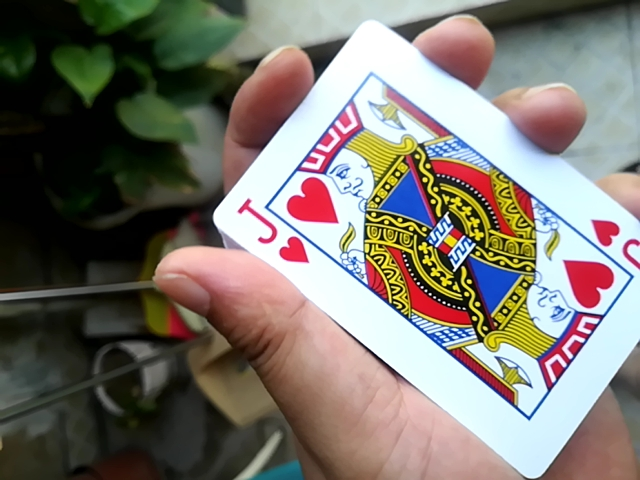hx j: (204, 7, 630, 476)
